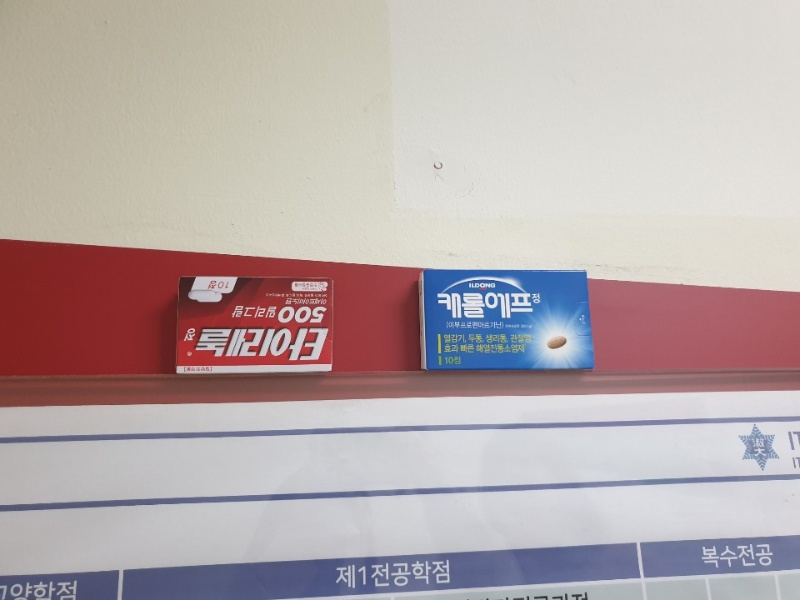carolF: (415, 269, 594, 369)
tylenol: (175, 277, 332, 369)
